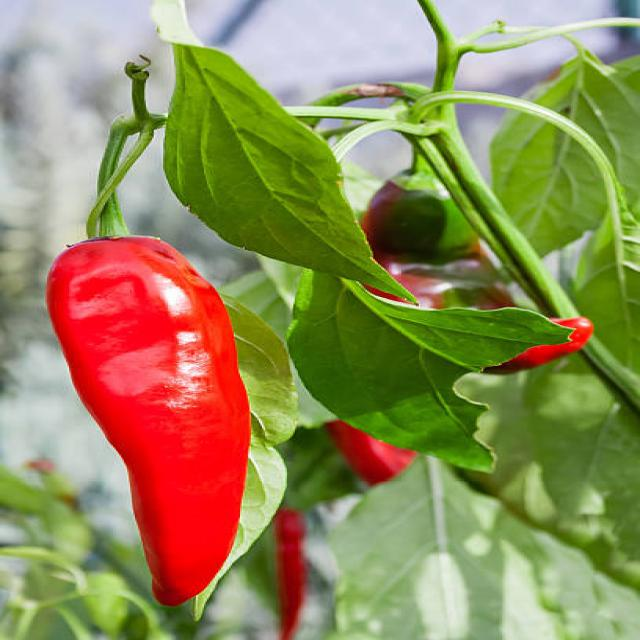Ripe: (44, 236, 257, 612)
